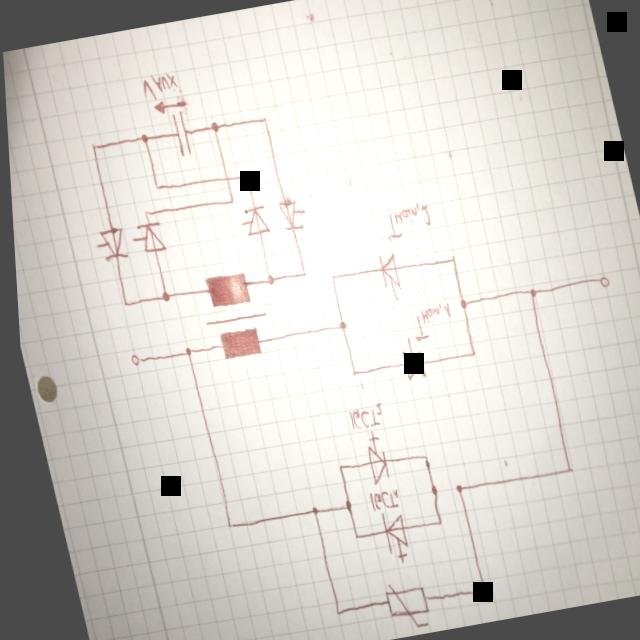capacitor: (167, 109, 192, 161)
crossover: (220, 173, 230, 184)
junction: (156, 290, 168, 304), (261, 274, 272, 287), (454, 298, 465, 311), (137, 132, 148, 145), (333, 320, 344, 332), (208, 121, 218, 134), (523, 287, 534, 298), (447, 483, 458, 494), (337, 500, 347, 512), (303, 506, 314, 516), (178, 347, 188, 358), (258, 115, 268, 126), (446, 254, 454, 266), (559, 467, 568, 476), (472, 587, 481, 596), (297, 270, 305, 280), (465, 350, 473, 360), (331, 462, 339, 472), (88, 142, 96, 152), (150, 182, 158, 192), (416, 454, 424, 463), (345, 532, 353, 541), (219, 521, 227, 530), (241, 173, 249, 182), (140, 210, 149, 218), (225, 198, 233, 206), (118, 300, 125, 309), (346, 370, 353, 378), (326, 274, 333, 282), (326, 610, 333, 617), (430, 519, 436, 527)
terminal: (123, 353, 139, 371), (594, 274, 608, 292)
text: (377, 200, 433, 244), (402, 301, 453, 344), (137, 71, 179, 104), (341, 401, 382, 433), (361, 487, 395, 514)
thyristor: (373, 508, 406, 565), (356, 432, 387, 488), (90, 225, 127, 264), (131, 219, 165, 257), (372, 250, 400, 294), (235, 203, 268, 239), (394, 342, 422, 384), (274, 198, 301, 233)
transformer: (190, 268, 271, 364)
